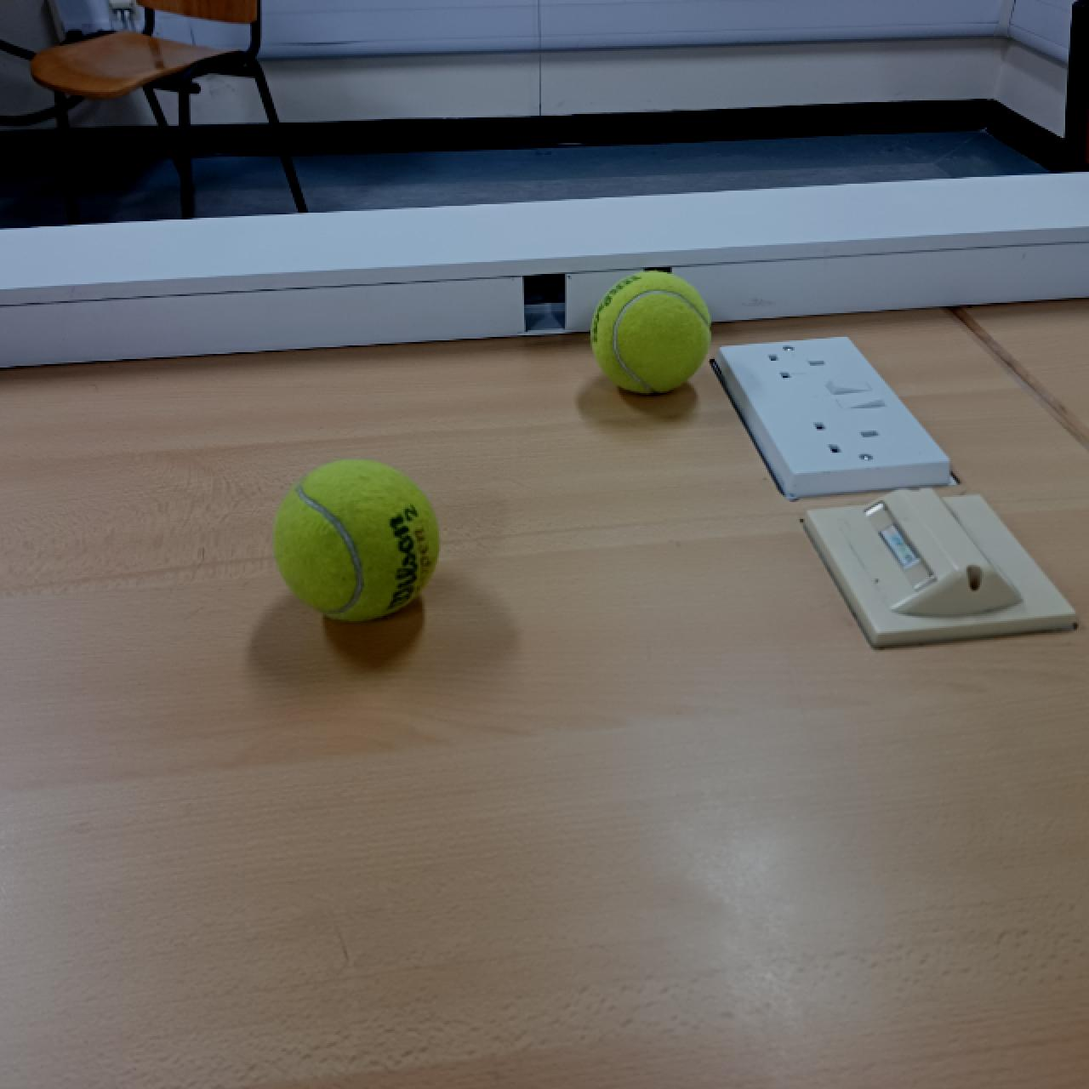tennis-ball: (272, 458, 441, 625), (593, 269, 713, 396)
